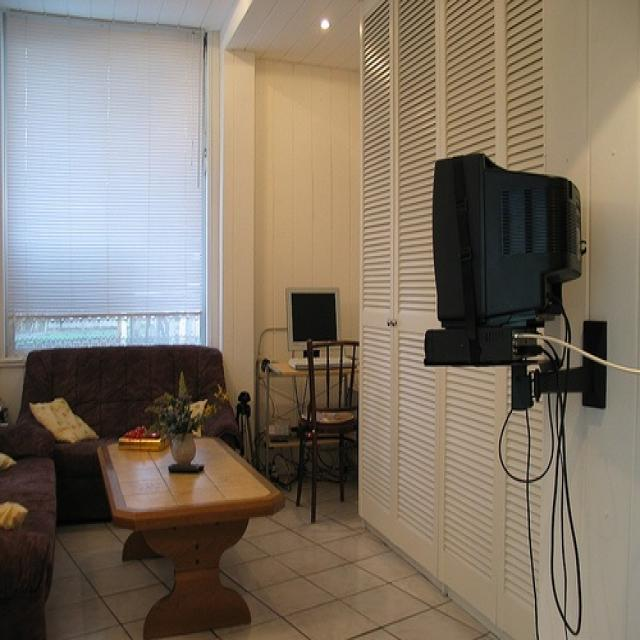chair: (293, 340, 359, 524)
sofa: (9, 345, 241, 524), (0, 416, 58, 638)
tvmonitor: (430, 152, 584, 329), (285, 285, 342, 350)
